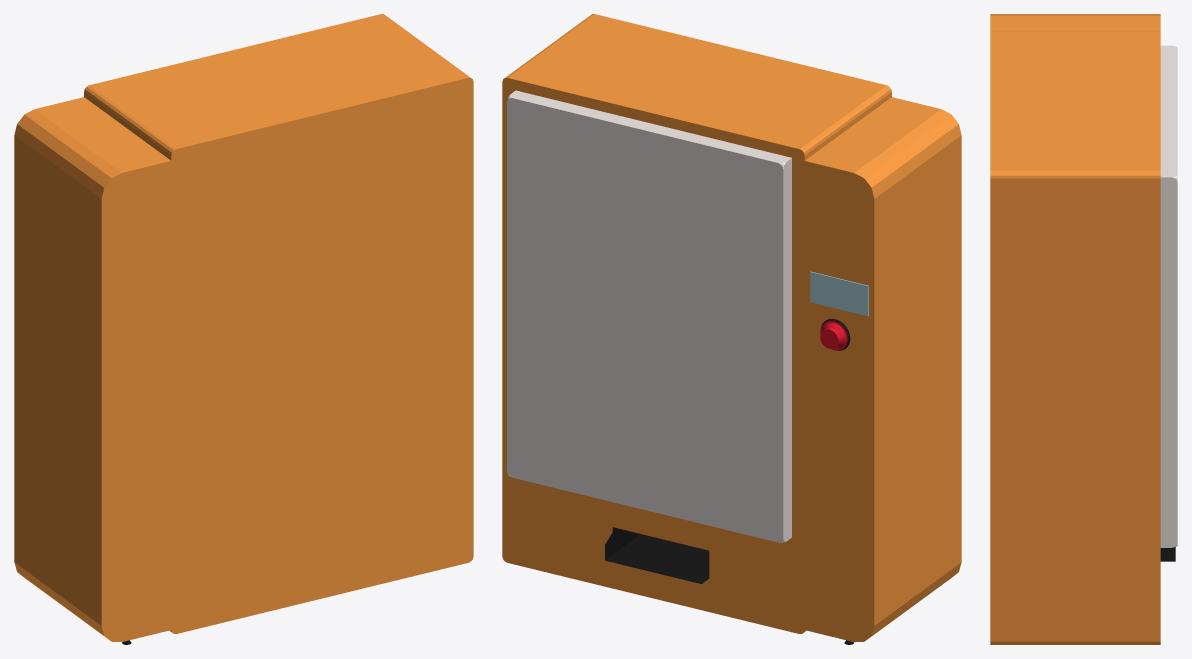
Rendered from Distributore Latte.fbx.
The picture shows the model from 3 angles, left to right: view 1: azimuth 30°, elevation 25°; view 2: azimuth 150°, elevation 25°; view 3: azimuth 270°, elevation 25°; orthographic projection. The views are drawn at different scales.
Parts seen in each view (by area): view 1: Distributore; view 2: Distributore, Cylinder; view 3: Distributore.
Boxes of the visible parts, bbox=[...] form: Distributore: bbox=[14, 14, 473, 642]; Distributore: bbox=[502, 14, 961, 642]; Cylinder: bbox=[820, 319, 850, 350]; Distributore: bbox=[990, 14, 1177, 644].
Bounding box in the file's own units: 369 × 460 × 165.
